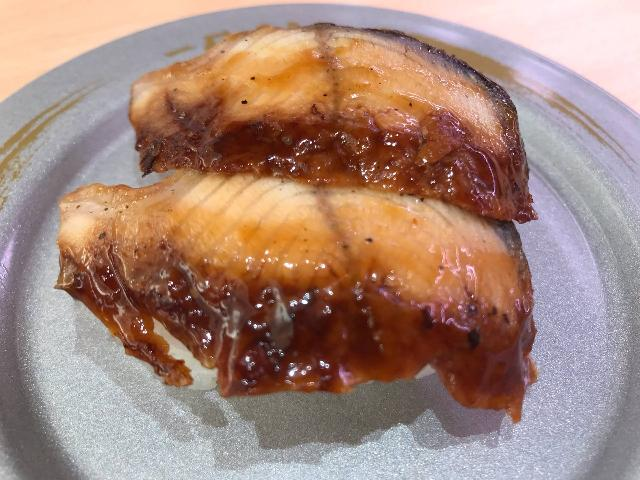janwhite: (18, 32, 640, 475)
